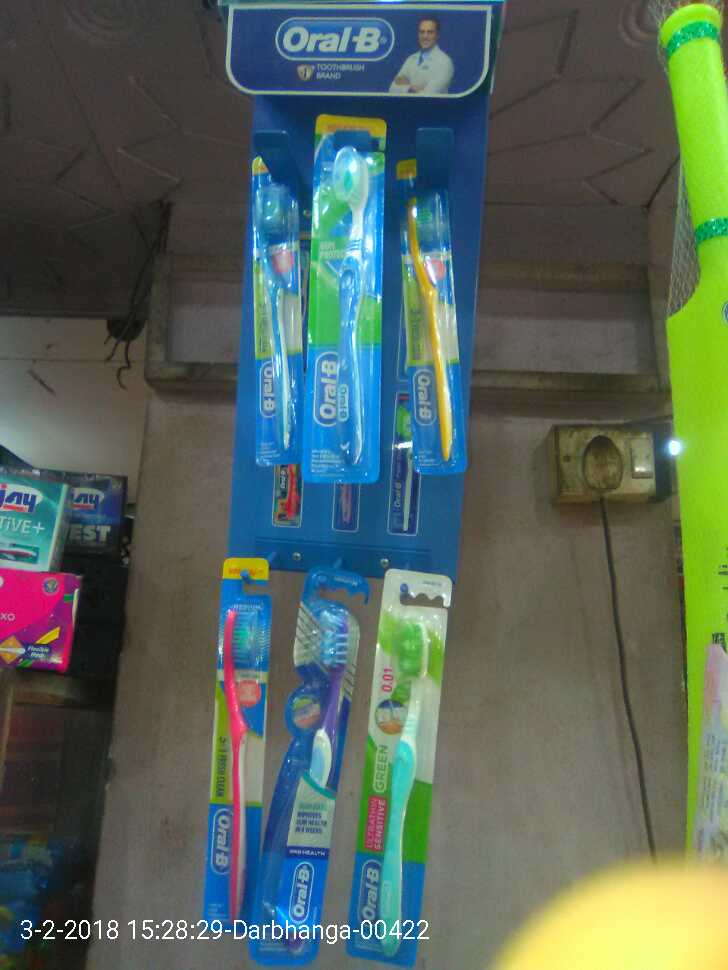oralb: (257, 562, 358, 954), (389, 160, 476, 472), (311, 110, 379, 487), (378, 562, 440, 948), (246, 158, 310, 462), (208, 551, 257, 936)
